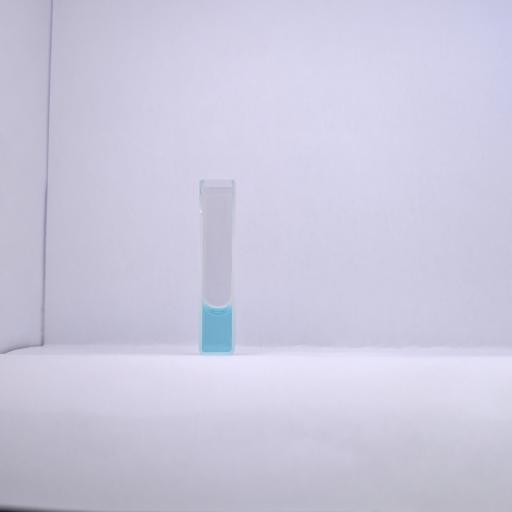cuvette: (197, 176, 238, 357)
liquid: (203, 305, 231, 351)
